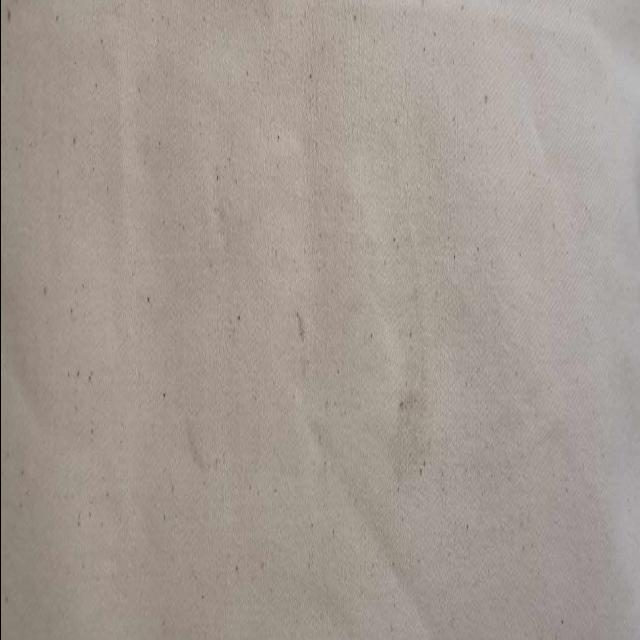taaaches: (387, 372, 443, 502), (290, 306, 308, 344)
